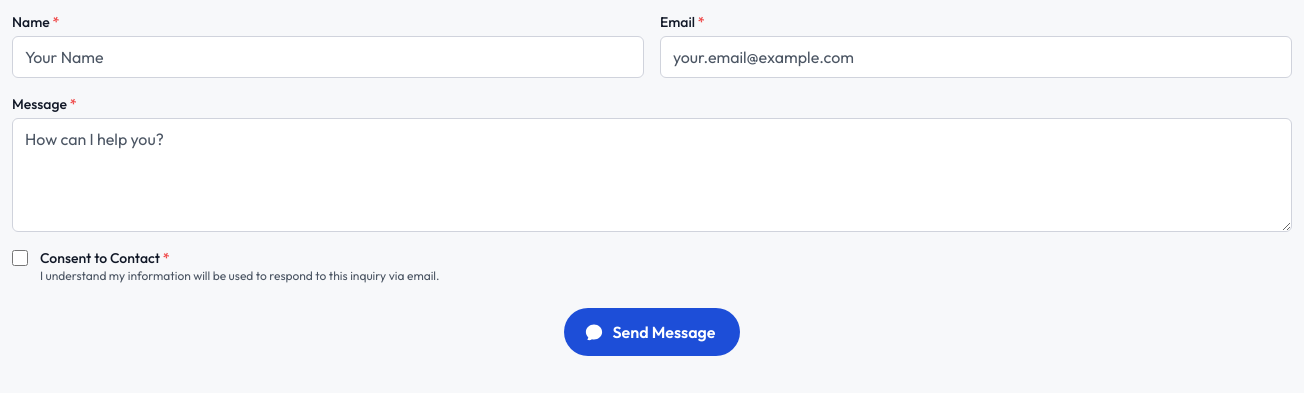
<ContactForm /> (post-refactor behavior) › does not submit when consent is unchecked
Type "Grace Hopper" into the field labelled "Name *" at [328, 57], box [12,36,644,78]
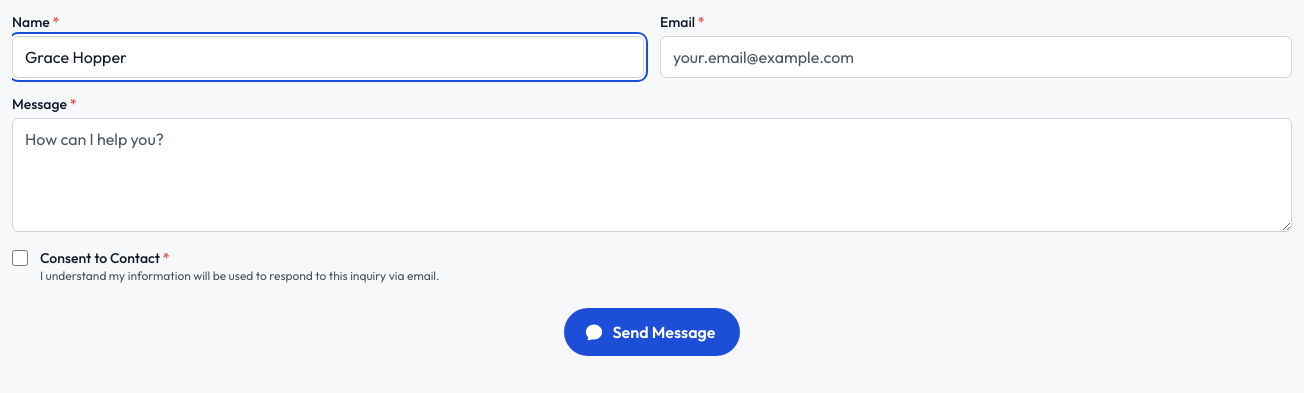
Type "grace@example.com" into the field labelled "Email *" at [976, 57], box [660,36,1292,78]
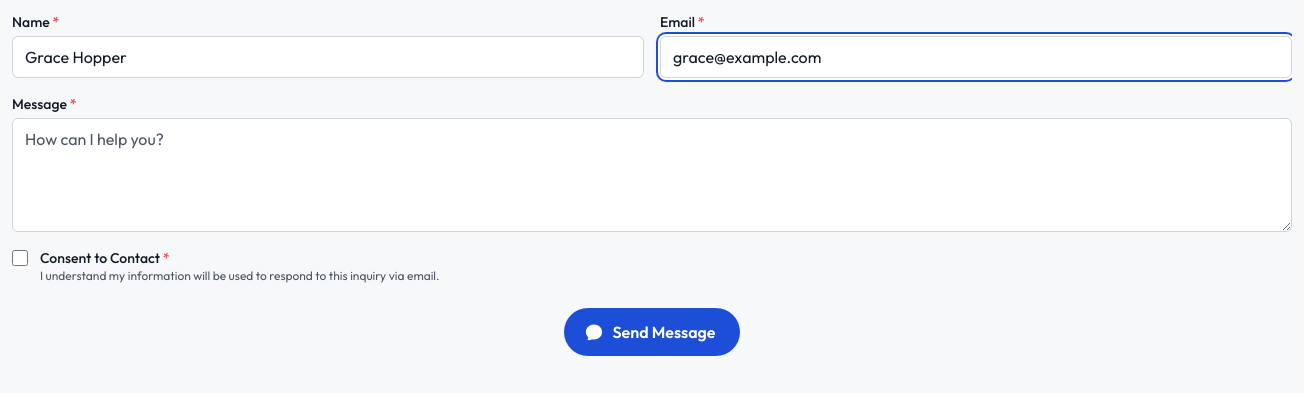
Type "Hello there." into the text box labelled "Message *" at [652, 175], box [12,118,1292,232]
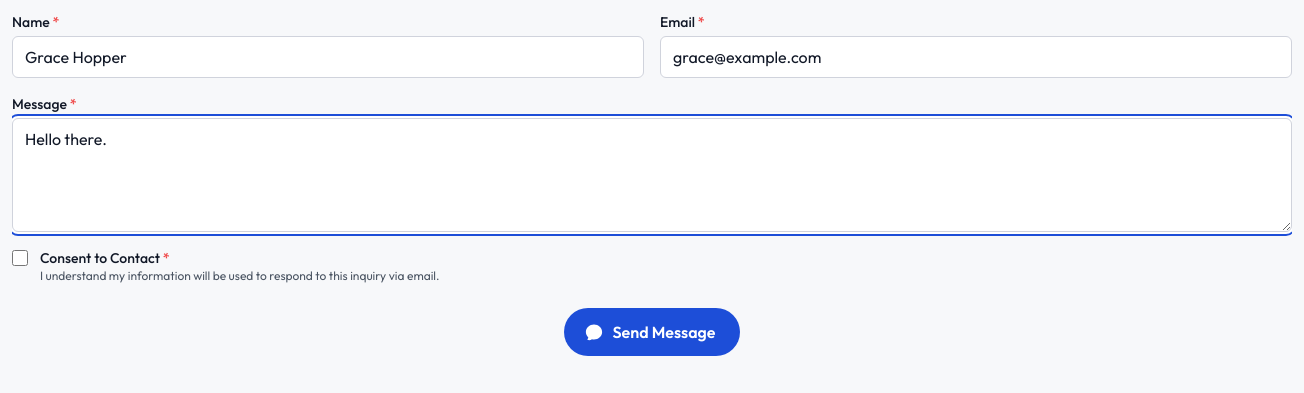
Click the button "Send Message" at [652, 332], box [564,308,740,356]
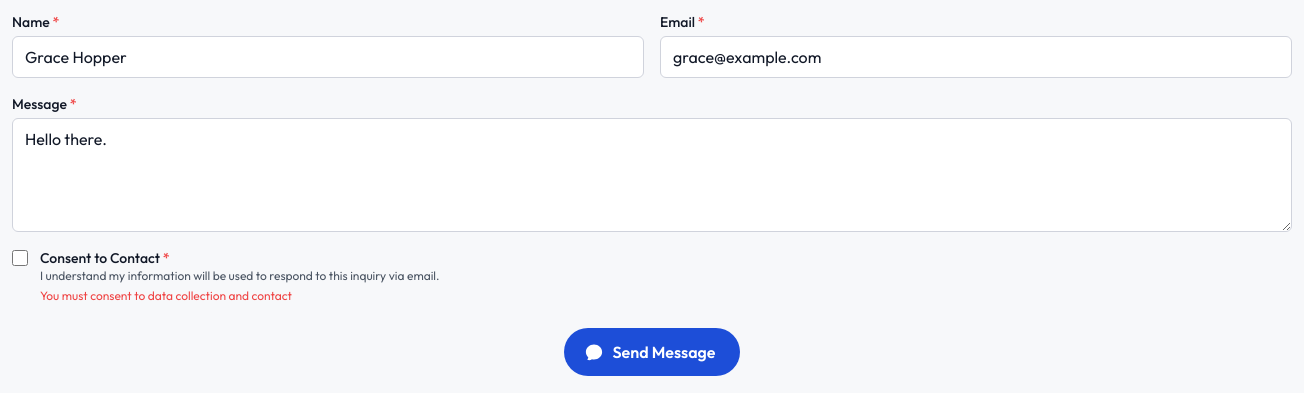
Expected: the text "You must consent to data collection and contact" is shown, [40,288,292,303]
